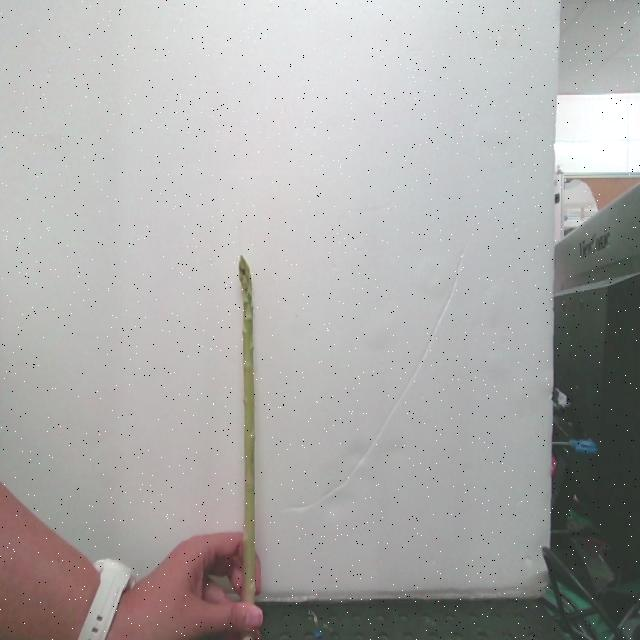aspargus: (236, 257, 262, 604)
